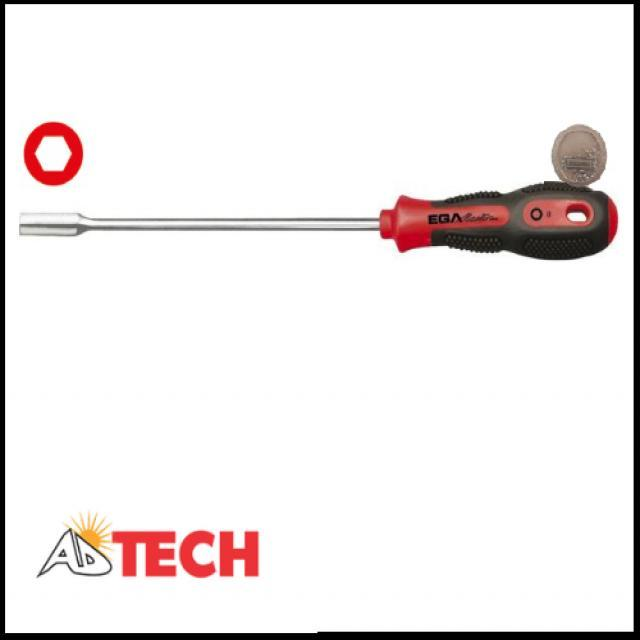screwdriver: (17, 179, 624, 266)
